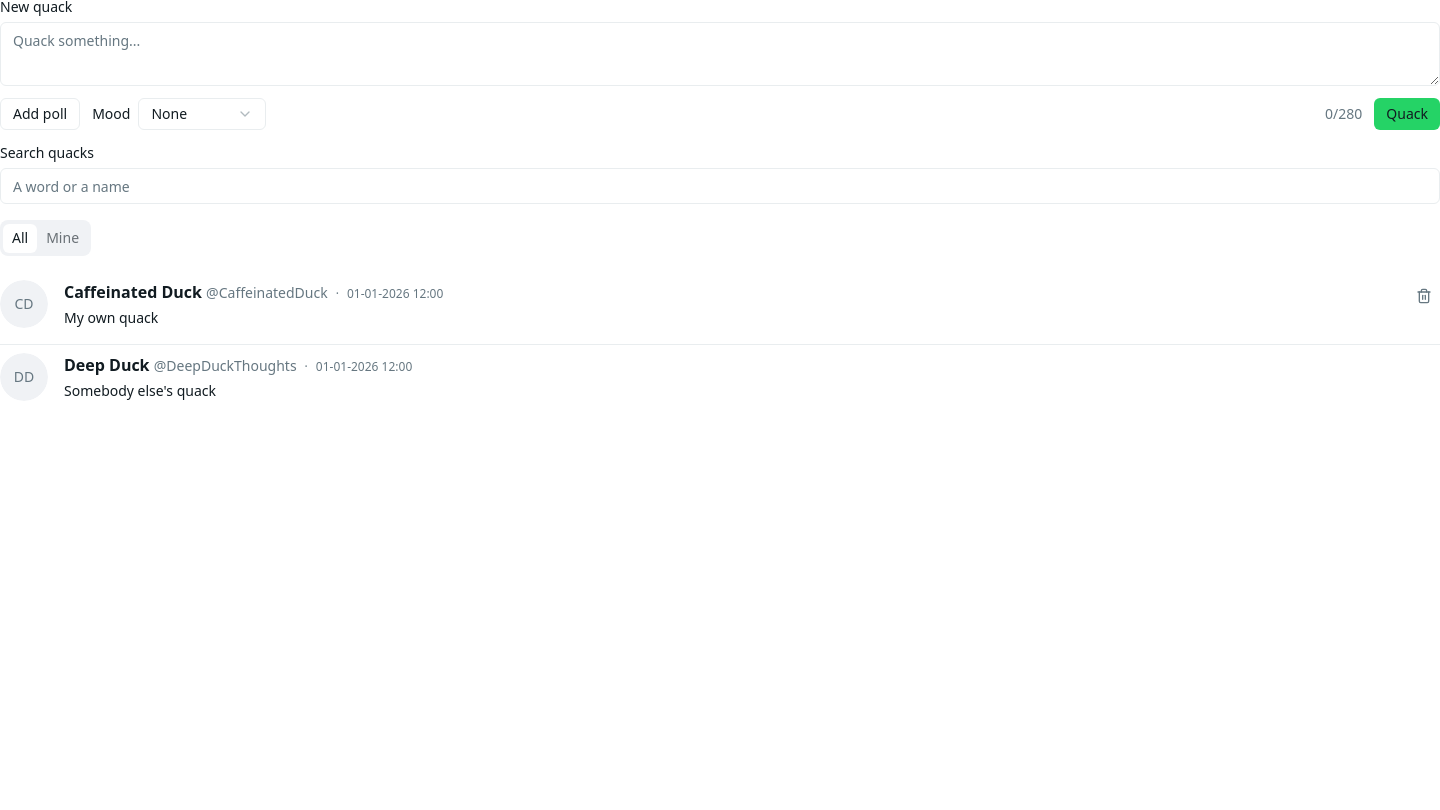
QuackFeed delete and Mine › deleting › asks first, and Cancel deletes nothing
Expected: the text "My own quack" is shown, [64, 308, 158, 327]
Click the button named "Delete quack".
click(1424, 296)  # box [1408, 280, 1439, 312]
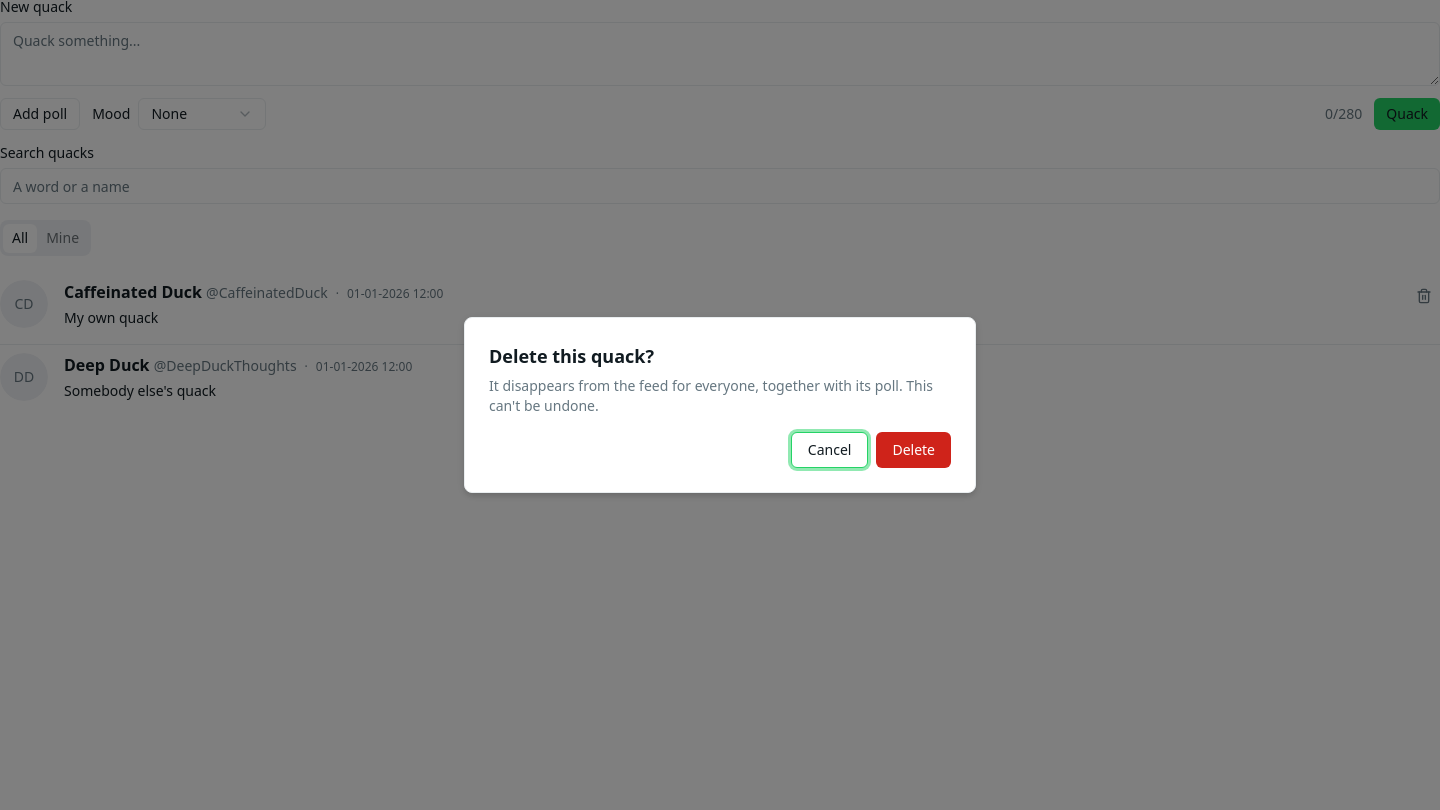
Click the button "Cancel".
click(830, 450)  # box [791, 432, 868, 468]
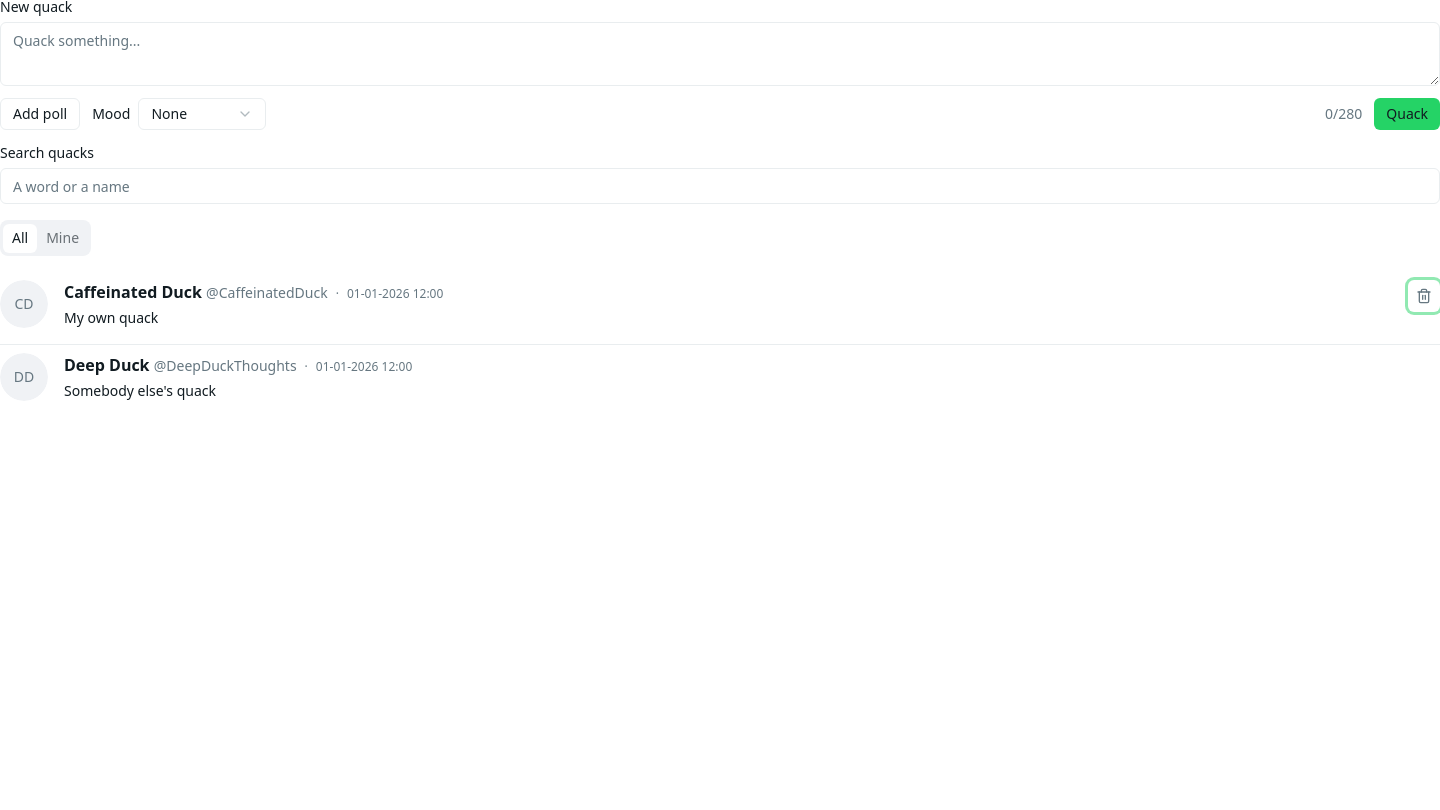
Expected: the text "My own quack" is shown, [64, 308, 158, 327]
Expected: the dialog is gone
